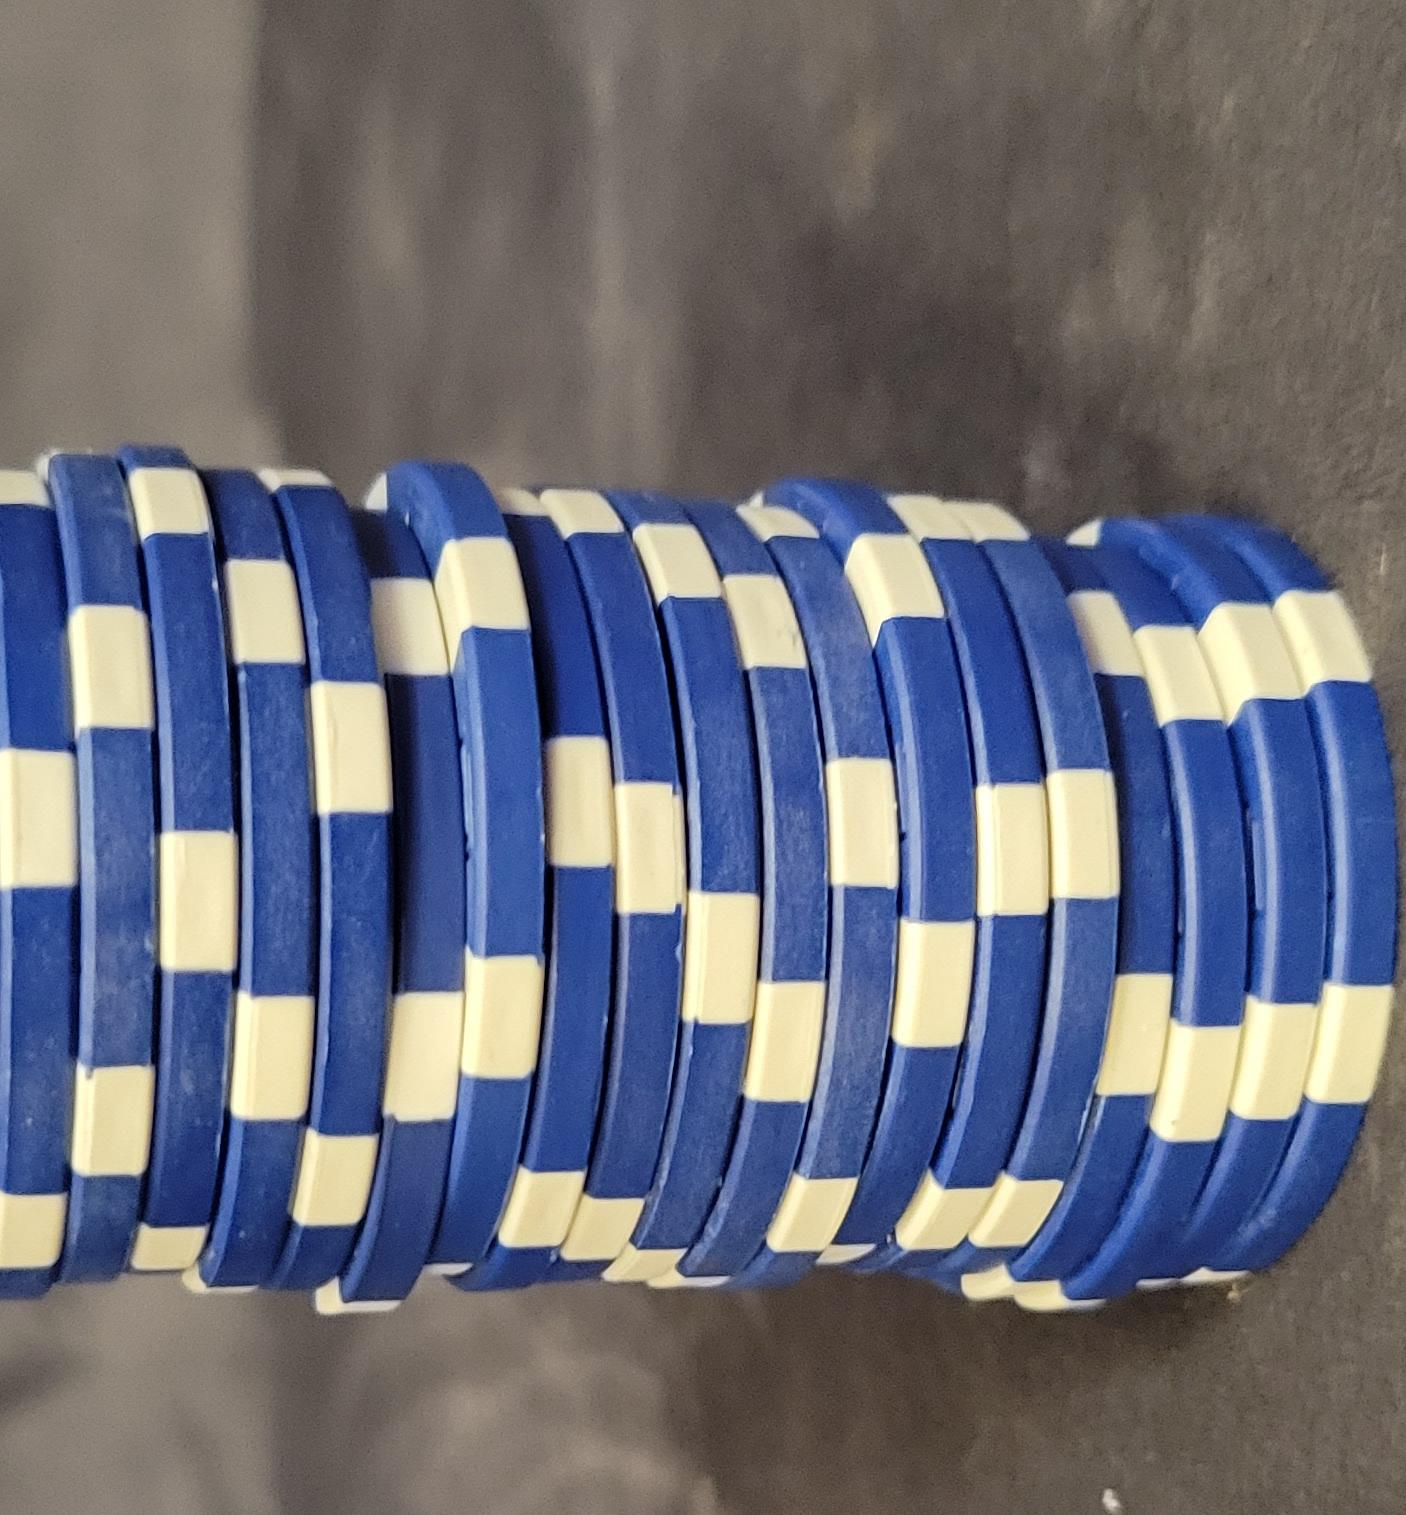Chip: (1, 199, 716, 1515)
